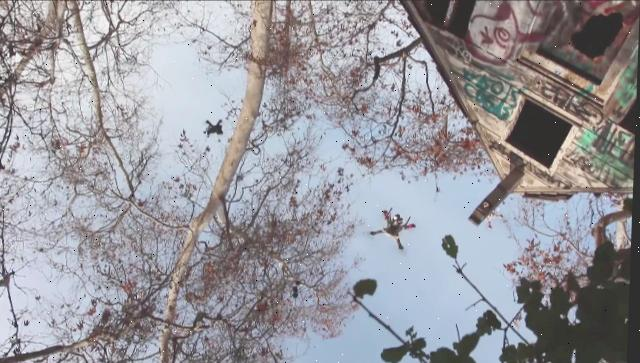drone: (370, 207, 417, 253)
